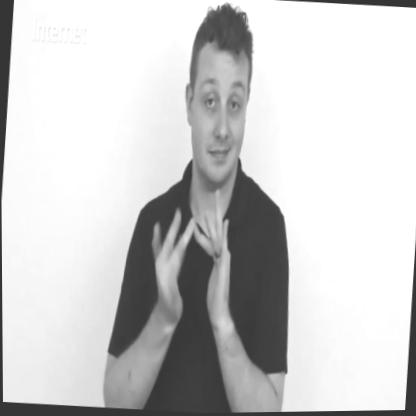Internet: (99, 0, 313, 415)
